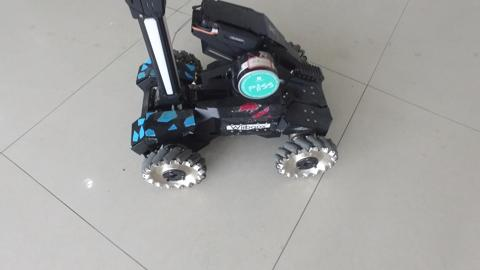chariot: (92, 1, 328, 180)
